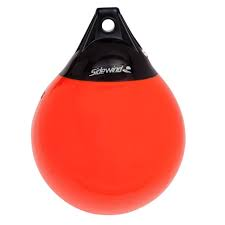buoy: (30, 75, 185, 213)
